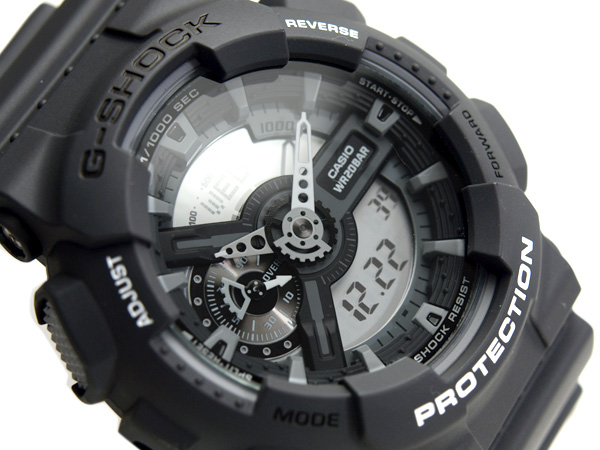clock: (53, 14, 548, 450)
